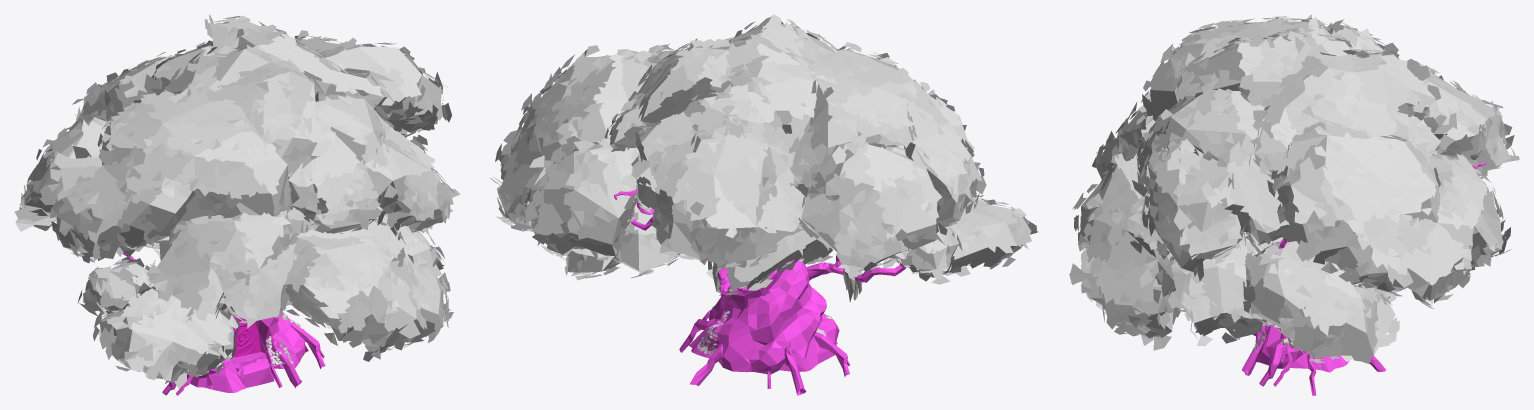
The model's file is SM_Portal_D_Fantasy.fbx.
3 renders of one model, left to right at view 1: azimuth 30°, elevation 25°; view 2: azimuth 150°, elevation 25°; view 3: azimuth 270°, elevation 25°, orthographic.
Visible parts, largest first — view 1: SM_Portal_D_Fantasy; view 2: SM_Portal_D_Fantasy; view 3: SM_Portal_D_Fantasy.
Boxes of the visible parts, box(x1,y1,x2,y2) form: SM_Portal_D_Fantasy: box(14, 14, 460, 395); SM_Portal_D_Fantasy: box(490, 14, 1039, 395); SM_Portal_D_Fantasy: box(1069, 14, 1519, 395).
Bounding box in the file's own units: 29.17 × 21.49 × 26.33.
